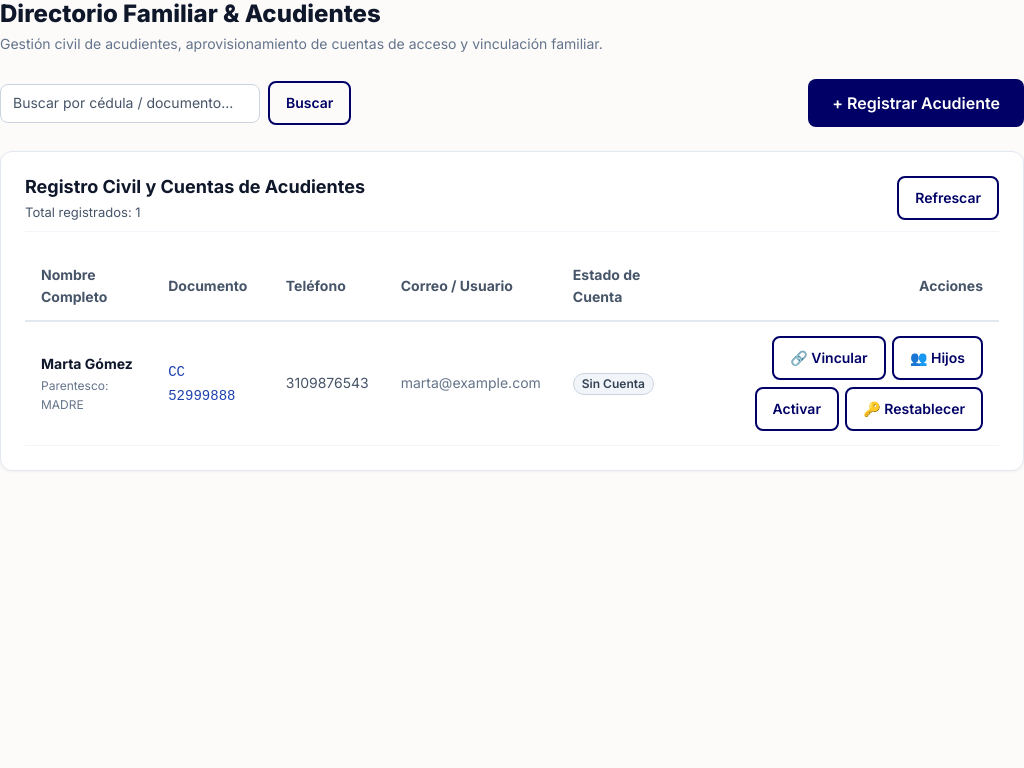
Scenario: Academic Management Views › renders GuardiansView with civil registry details and link student modal selector
Expected: the text "Marta Gómez" is shown, [25,321,152,445]
Expected: the text "3109876543" is shown, [270,321,385,445]
// Open Link Student Modal
Step 1. Click the button with aria-label "Vincular a Estudiante" → (829, 358), box [772,336,886,380]
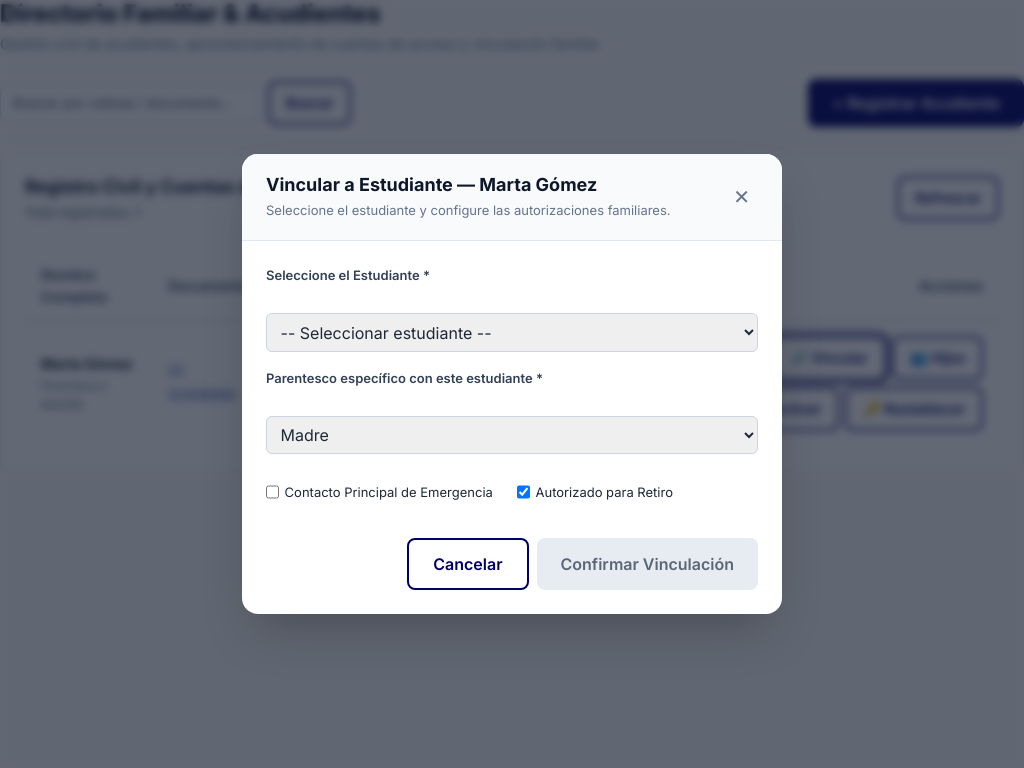
Expected: the heading "Vincular a Estudiante — Marta Gómez" is shown, [266,174,597,195]
